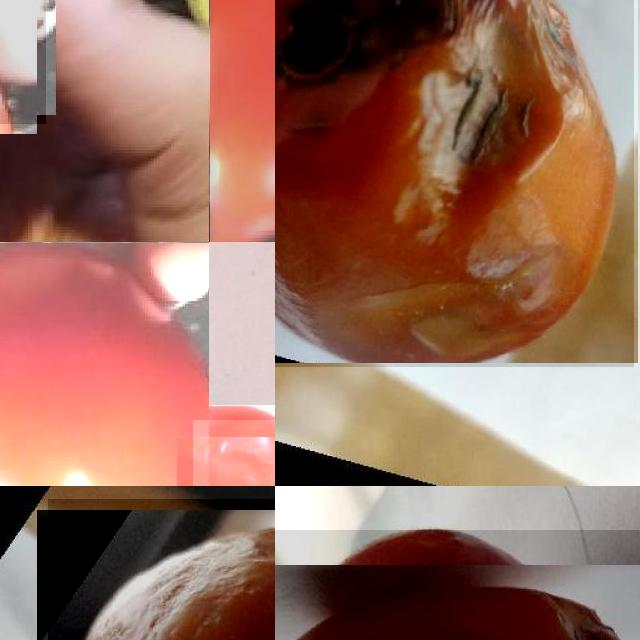1: (48, 498, 275, 640)
Fresh Tomato: (0, 242, 209, 486), (209, 0, 275, 242)
Rotten Tomato: (275, 0, 634, 367), (275, 530, 640, 640), (192, 420, 275, 486)
